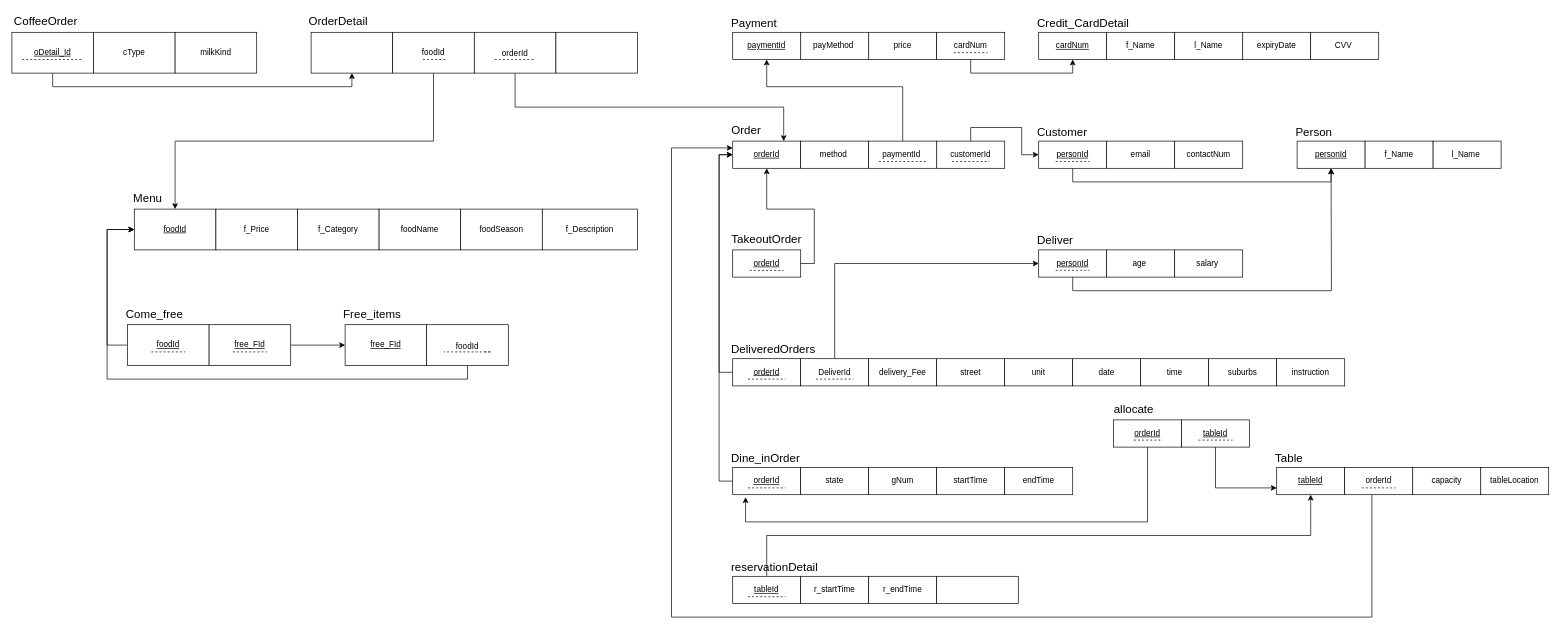
Image size: 1561x634. Some labels were removed from this diagram. Here are the shapes that lost their labels. From the top down, the centre of each, then its label:
(x=351, y=52): oDetial_Id
(x=596, y=52): foodQuantity
(x=977, y=590): r_state
